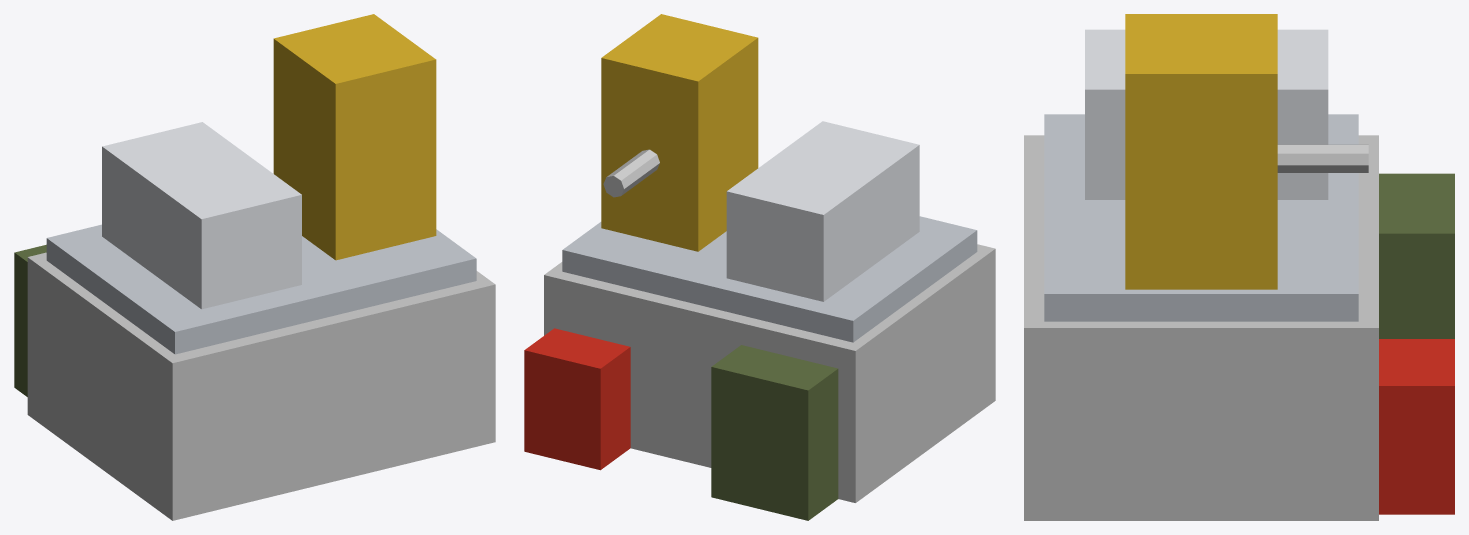
File: maintenance_station.obj
3 renders of one model, left to right at view 1: azimuth 30°, elevation 25°; view 2: azimuth 150°, elevation 25°; view 3: azimuth 270°, elevation 25°, orthographic. The views are drawn at different scales.
Parts seen in each view (by area): view 1: maintenance_station; view 2: maintenance_station; view 3: maintenance_station.
Boxes of the visible parts, x1=… form: maintenance_station: x1=14, y1=14, x2=495, y2=520; maintenance_station: x1=524, y1=14, x2=995, y2=520; maintenance_station: x1=1024, y1=14, x2=1454, y2=520.
Bounding box in the file's own units: 0.9 × 0.95 × 0.85.
